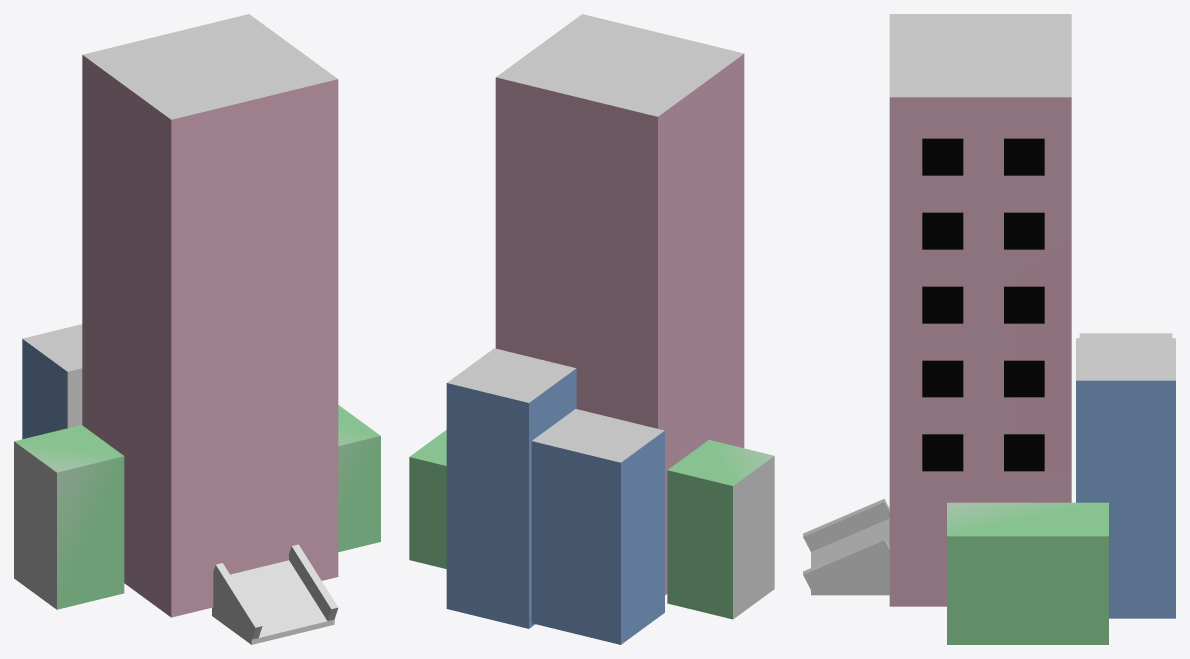
Rendered from building2.fbx.
3 views of the same model, side by side, from view 1: azimuth 30°, elevation 25°; view 2: azimuth 150°, elevation 25°; view 3: azimuth 270°, elevation 25° (orthographic). The views are drawn at different scales.
Parts seen in each view (by area): view 1: Cube, Cube.002, Cube.001, Cube.003, Cube.005; view 2: Cube, Cube.002, Cube.001, Cube.003, Cube.005, Cube.004; view 3: Cube, Cube.001, Cube.002, Cube.004, Cube.003, Cube.005.
Boxes of the visible parts, bbox=[...] form: Cube: bbox=[14, 349, 380, 644]; Cube.002: bbox=[82, 199, 338, 434]; Cube.001: bbox=[82, 14, 338, 182]; Cube.003: bbox=[82, 107, 338, 277]; Cube.005: bbox=[22, 324, 82, 439]; Cube: bbox=[409, 359, 774, 644]; Cube.002: bbox=[495, 207, 744, 402]; Cube.001: bbox=[495, 14, 744, 167]; Cube.003: bbox=[495, 115, 744, 256]; Cube.005: bbox=[531, 409, 664, 594]; Cube.004: bbox=[446, 348, 576, 499]; Cube: bbox=[803, 413, 1175, 644]; Cube.001: bbox=[889, 14, 1071, 198]; Cube.002: bbox=[889, 268, 1071, 421]; Cube.004: bbox=[1076, 338, 1175, 499]; Cube.003: bbox=[889, 179, 1071, 277]; Cube.005: bbox=[1079, 333, 1172, 338].
Bounding box in the file's own units: 343 × 538 × 349.
